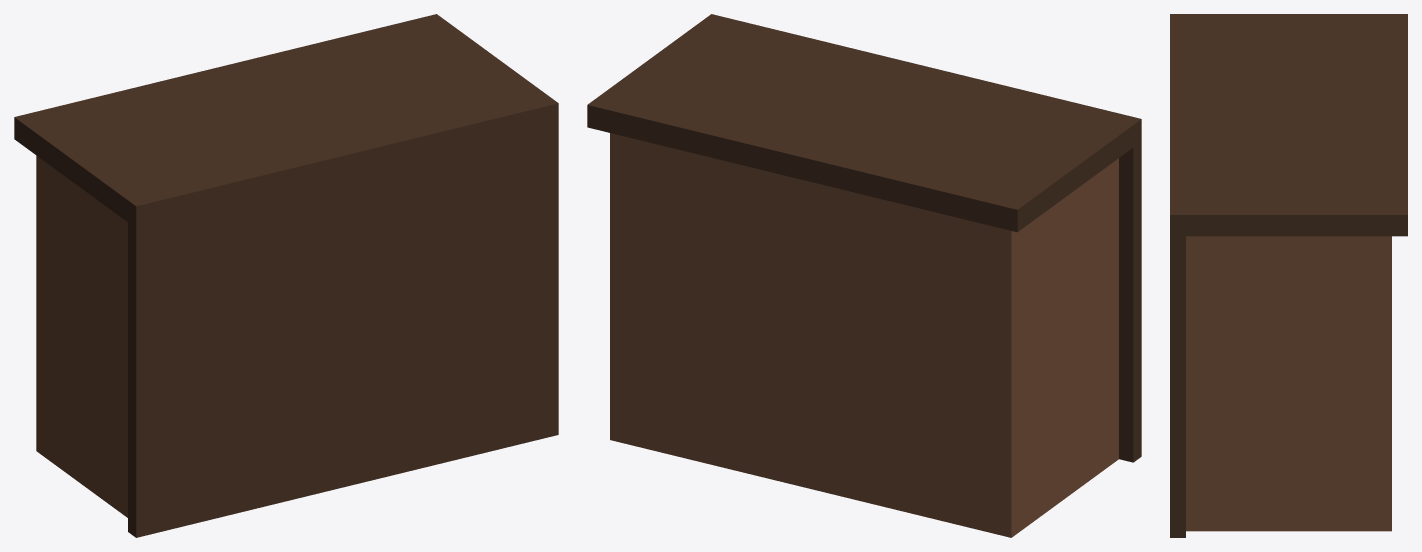
File: shop_counter.glb
3 renders of one model, left to right at view 1: azimuth 30°, elevation 25°; view 2: azimuth 150°, elevation 25°; view 3: azimuth 270°, elevation 25°, orthographic. The views are drawn at different scales.
Visible parts, largest first — view 1: SHOP_Counter; view 2: SHOP_Counter; view 3: SHOP_Counter.
Part boxes in pixels (x1,y1,x2,y2): SHOP_Counter: [14, 14, 558, 537]; SHOP_Counter: [587, 14, 1141, 537]; SHOP_Counter: [1170, 14, 1407, 537].
Bounding box in the file's own units: 1.2 × 0.9 × 0.6.
